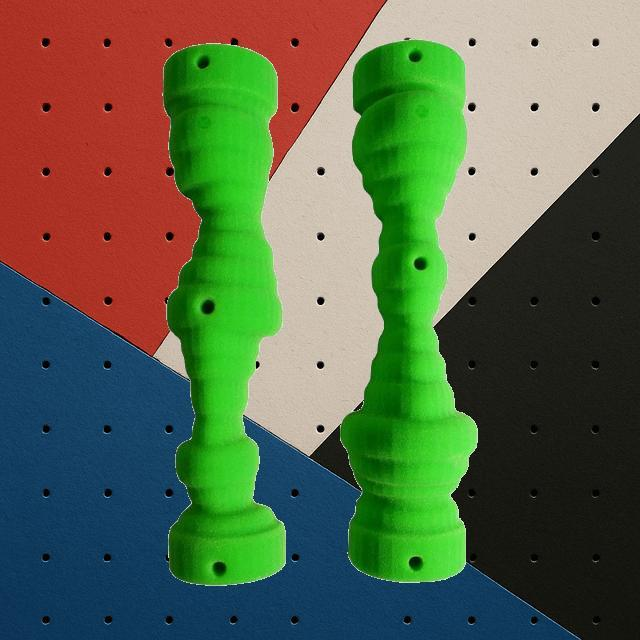Pinch: (339, 38, 477, 582), (162, 42, 286, 584)
